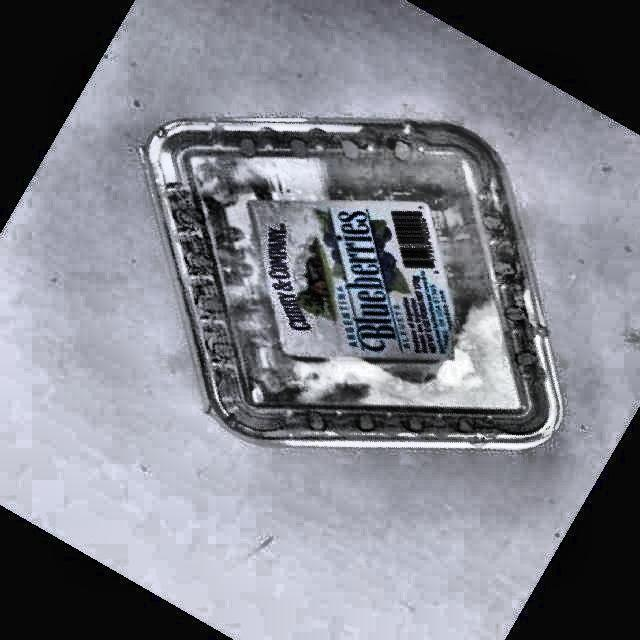plastic: (144, 120, 561, 447)
